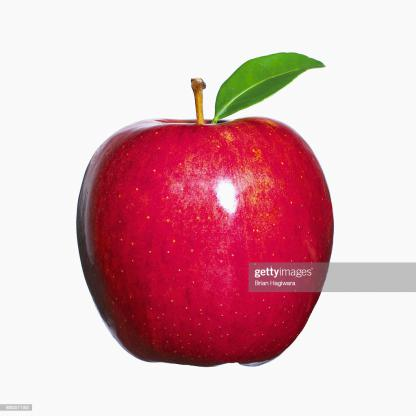Apple: (69, 64, 374, 379)
